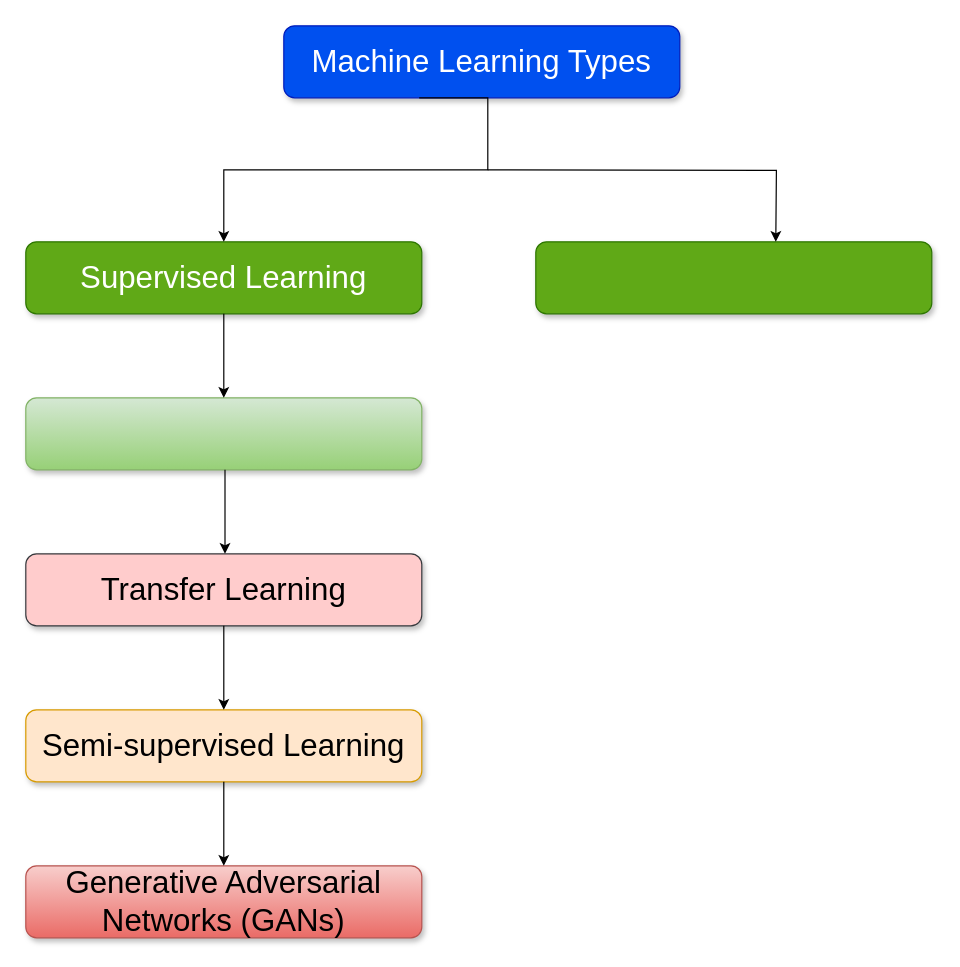
The diagram is 960 pixels wide and 967 high, and some of its shapes have lost their labels. Here are the shapes that lost their labels. From the top down, the centre of each, then its label:
point (734, 279): Unsupervised Learning
point (224, 435): Reinforcement Learning
